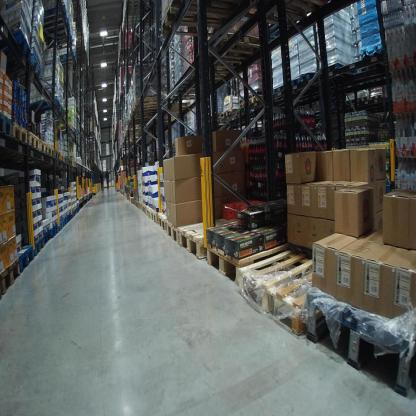forklift: (114, 149, 122, 193)
pallet: (232, 237, 338, 350), (313, 299, 414, 393), (197, 228, 299, 282), (197, 29, 271, 75), (155, 3, 255, 35), (353, 40, 400, 86), (176, 218, 220, 266), (6, 48, 44, 92), (2, 23, 28, 71), (24, 95, 61, 123), (319, 61, 356, 87), (2, 256, 21, 302), (12, 241, 32, 283), (12, 120, 32, 158), (131, 92, 162, 111), (1, 110, 15, 146), (29, 233, 45, 264), (285, 70, 303, 96), (248, 90, 268, 111), (298, 68, 317, 90), (221, 108, 248, 123), (338, 94, 358, 111), (56, 51, 78, 66), (39, 230, 51, 256), (28, 126, 40, 152), (273, 78, 286, 101), (234, 96, 249, 115), (38, 138, 50, 161), (56, 122, 75, 136), (46, 223, 57, 246), (167, 221, 178, 243), (357, 92, 371, 108), (158, 211, 168, 233), (150, 208, 161, 226), (47, 140, 56, 159), (372, 93, 384, 107), (147, 206, 154, 223), (55, 148, 61, 163), (60, 150, 66, 163), (65, 155, 69, 166)
